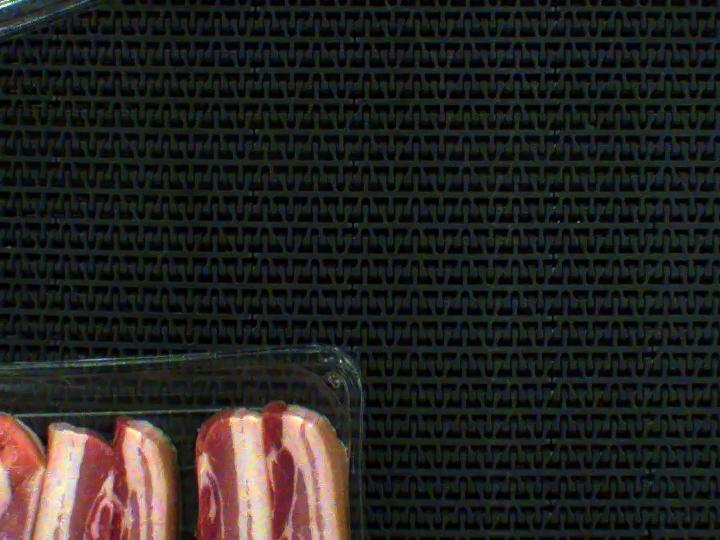loose-meat: (175, 400, 363, 540)
